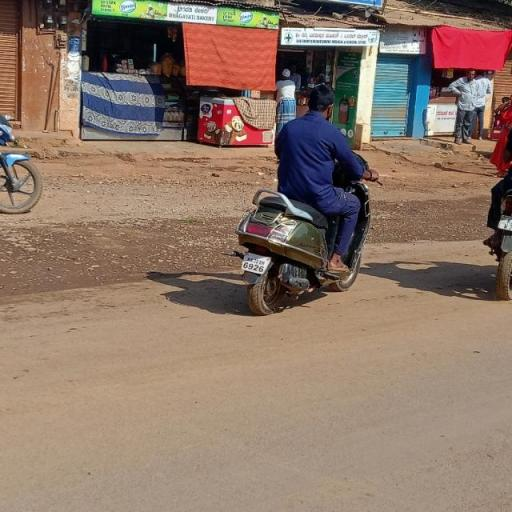bike: (232, 82, 386, 321)
numberplate: (238, 246, 277, 281)
withouthelmet: (308, 86, 334, 114)
